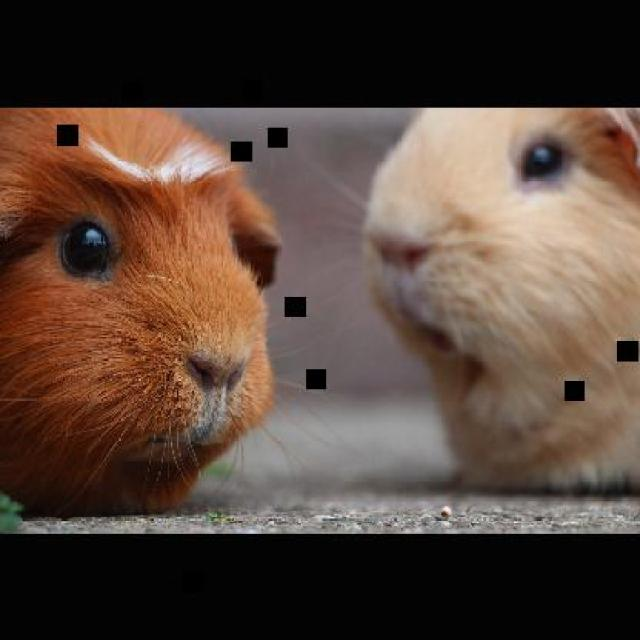unauthorized: (0, 106, 285, 517), (360, 104, 638, 496)
